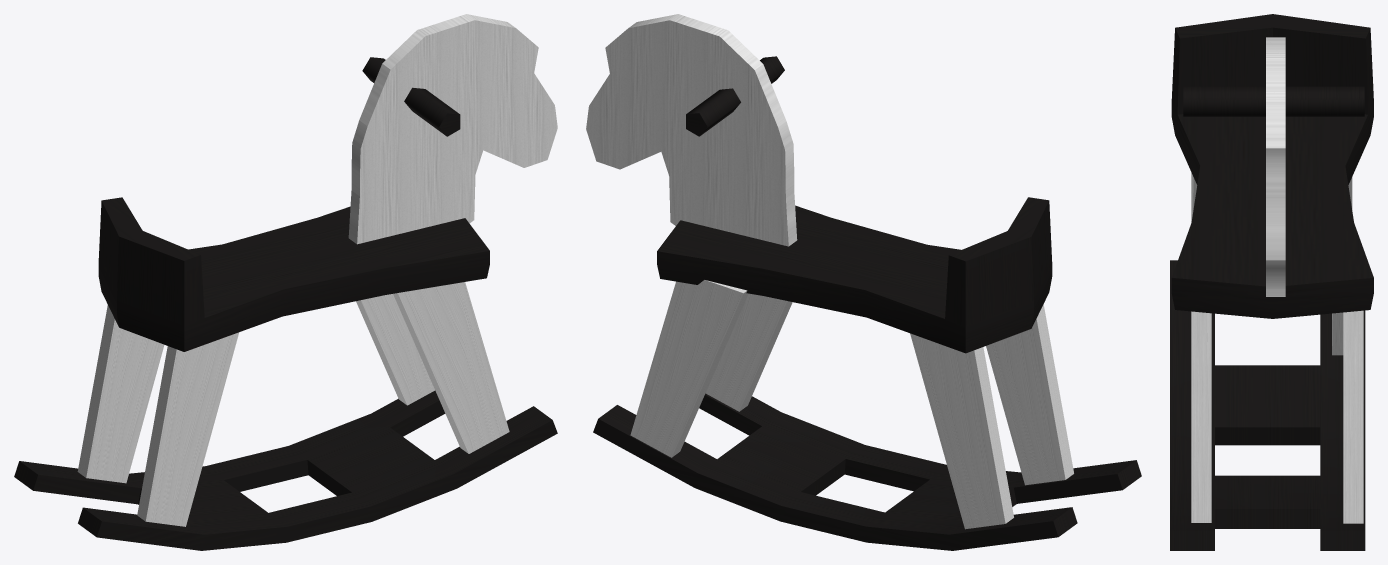
The model's file is Rocking_Horse_A.FBX.
3 views of the same model, side by side, from view 1: azimuth 30°, elevation 25°; view 2: azimuth 150°, elevation 25°; view 3: azimuth 270°, elevation 25° (orthographic). The views are drawn at different scales.
Visible parts, largest first — view 1: Rocking_Horse; view 2: Rocking_Horse; view 3: Rocking_Horse.
Boxes of the visible parts, bbox=[...] form: Rocking_Horse: bbox=[14, 14, 557, 550]; Rocking_Horse: bbox=[586, 14, 1141, 550]; Rocking_Horse: bbox=[1170, 14, 1373, 550].
Bounding box in the file's own units: 170 × 141 × 50.58.
